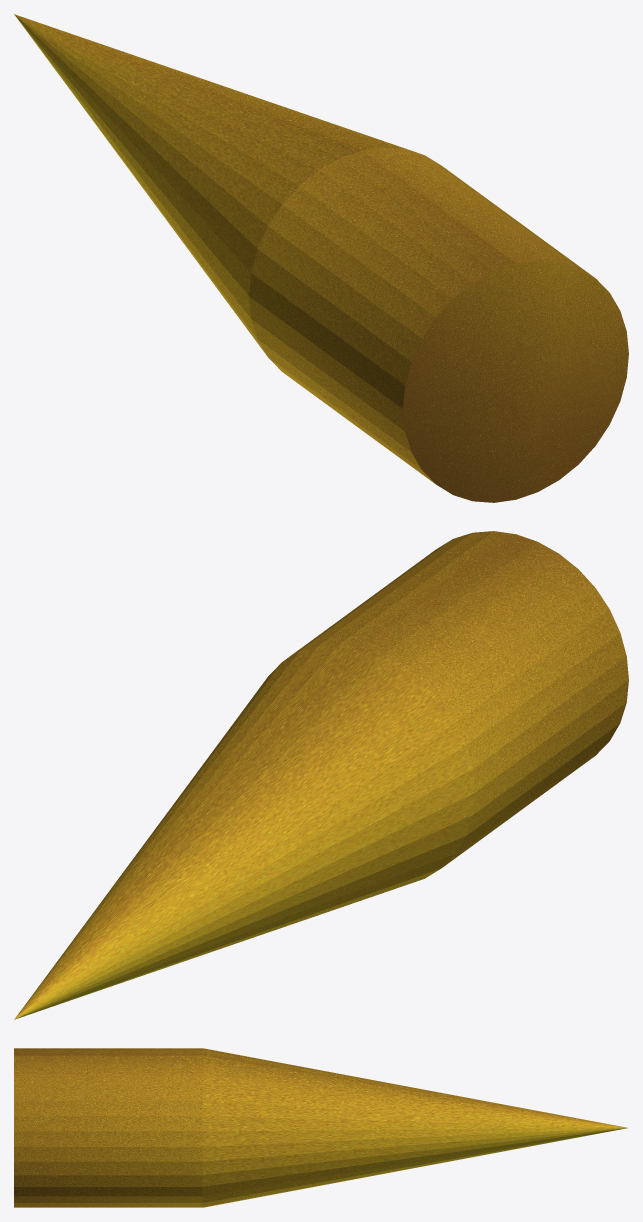
Rendered from bullet.obj.
3 views of the same model, one above another, from view 1: azimuth 30°, elevation 25°; view 2: azimuth 150°, elevation 25°; view 3: azimuth 270°, elevation 25° (orthographic). The views are drawn at different scales.
Visible parts, largest first — view 1: 円柱_円柱.002; view 2: 円柱_円柱.002; view 3: 円柱_円柱.002.
Boxes of the visible parts, bbox=[...] form: 円柱_円柱.002: bbox=[14, 14, 628, 502]; 円柱_円柱.002: bbox=[14, 531, 628, 1019]; 円柱_円柱.002: bbox=[14, 1048, 627, 1207].
Bounding box in the file's own units: 1 × 1 × 3.85.
Materials: 1 (1 with a texture image).
